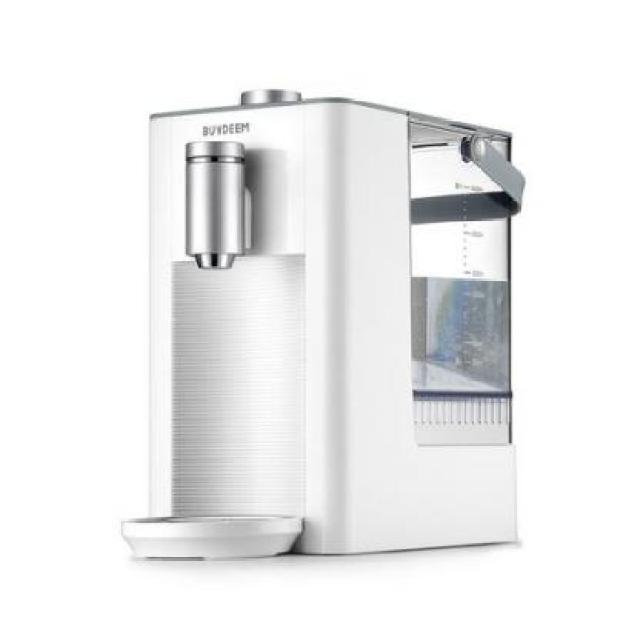cooler: (143, 84, 529, 568)
